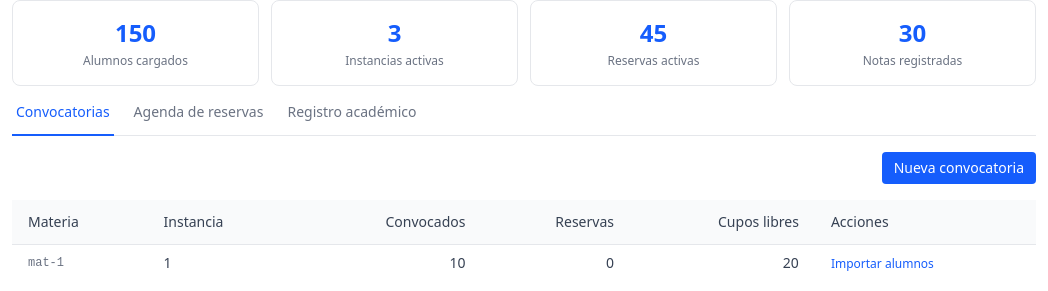
ColoquiosPage › 13.5c: shows empty state for agenda de reservas when no reservas
Switch to Agenda de reservas tab
Click the button "Agenda de reservas".
click(198, 119)  # box [130,102,267,136]
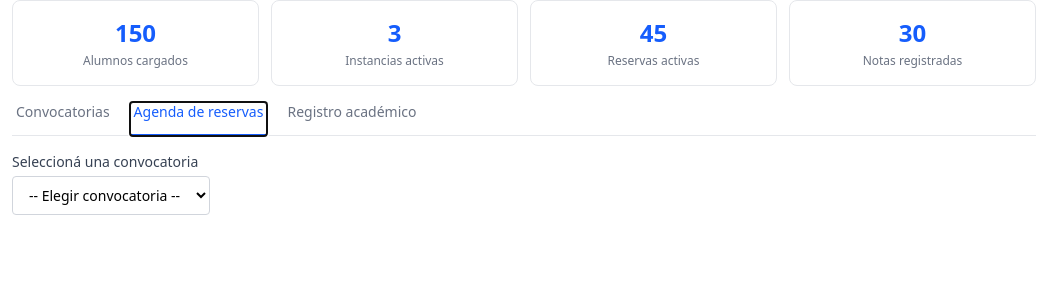
Select the convocatoria
Select "mat-1 — Instancia 1" in the dropdown at {"x": 111, "y": 196}, box [12,176,210,215]
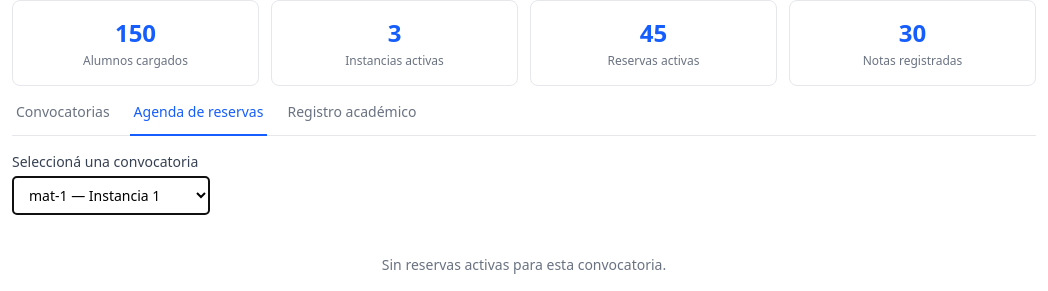
Check: the text "Sin reservas activas para esta convocatoria." is shown, box [382,255,666,274]
